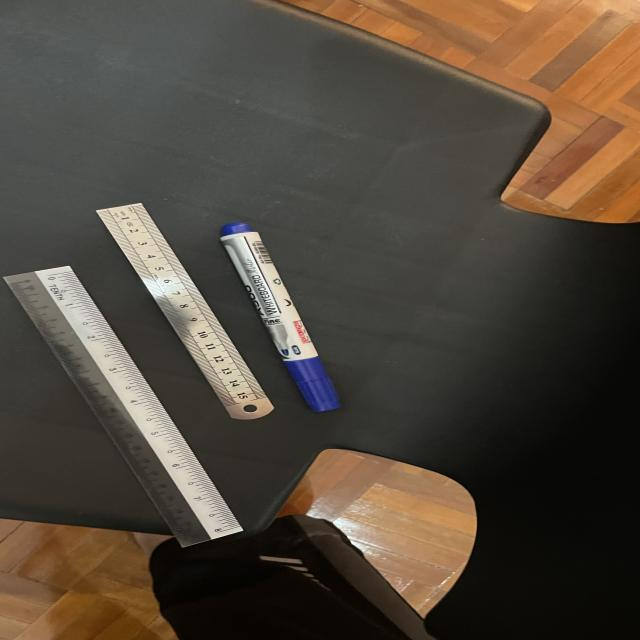marker: (221, 223, 340, 411)
ruler: (5, 266, 243, 547), (97, 203, 273, 420)
